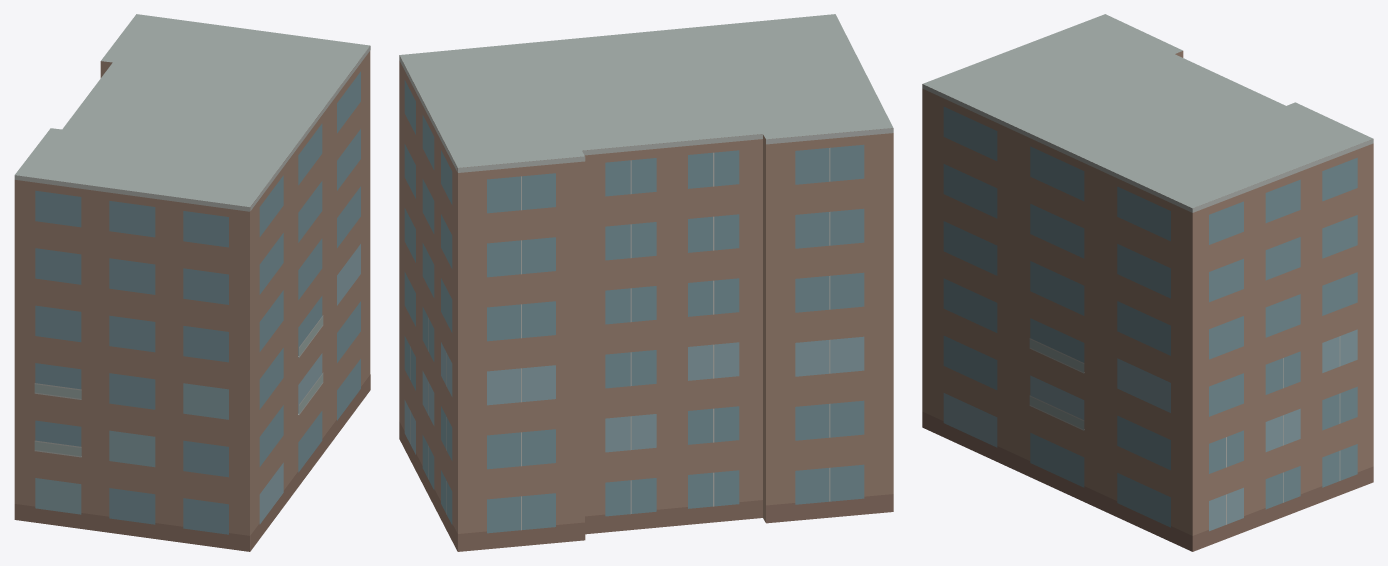
The model's file is survey-upis-32949915.glb.
3 renders of one model, left to right at view 1: azimuth 30°, elevation 25°; view 2: azimuth 150°, elevation 25°; view 3: azimuth 270°, elevation 25°, orthographic. The views are drawn at different scales.
Parts seen in each view (by area): view 1: survey-upis-32949915.tmp; view 2: survey-upis-32949915.tmp; view 3: survey-upis-32949915.tmp.
Boxes of the visible parts, x1,y1,x2,y2 form: survey-upis-32949915.tmp: (14, 14, 370, 551); survey-upis-32949915.tmp: (399, 14, 893, 551); survey-upis-32949915.tmp: (922, 14, 1373, 551).
Size of the model in its own units: 22.22 by 18.3 by 21.79.
